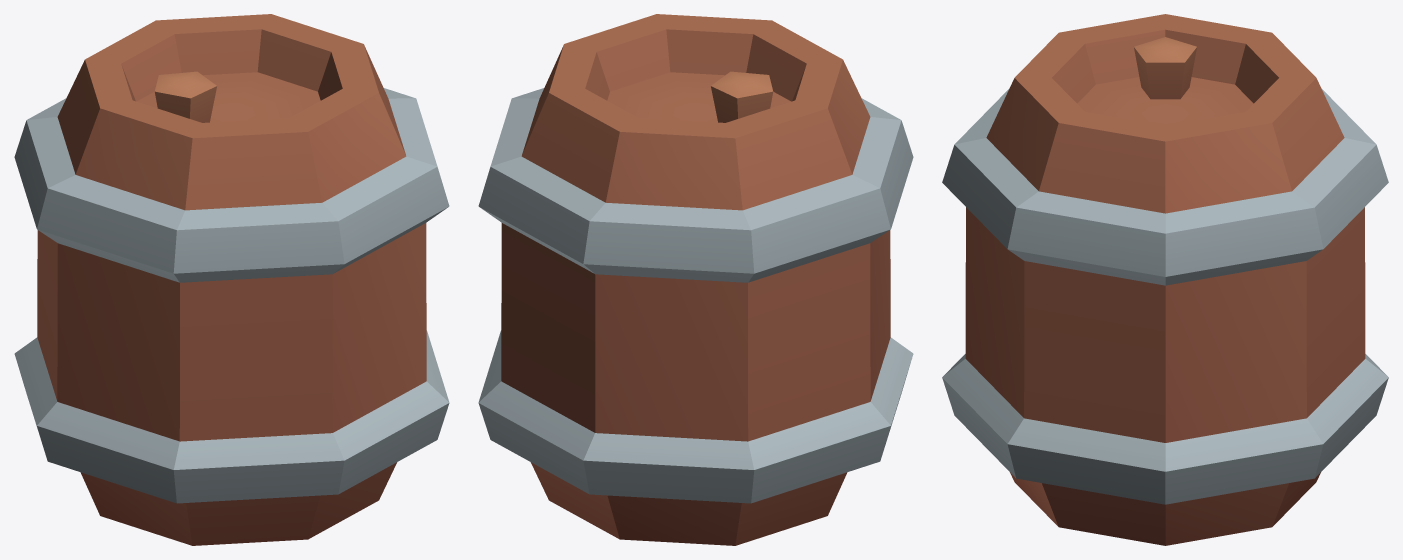
Rendered from dungeon-barrel-small.glb.
The picture shows the model from 3 angles, left to right: view 1: azimuth 30°, elevation 25°; view 2: azimuth 150°, elevation 25°; view 3: azimuth 270°, elevation 25°; orthographic projection.
Visible parts, largest first — view 1: dungeon-barrel-small; view 2: dungeon-barrel-small; view 3: dungeon-barrel-small.
Boxes of the visible parts, x1,y1,x2,y2 form: dungeon-barrel-small: (14, 14, 449, 545); dungeon-barrel-small: (478, 14, 913, 545); dungeon-barrel-small: (942, 14, 1388, 545).
Bounding box in the file's own units: 0.751 × 0.7632 × 0.751.
1 material, 1 textured.
